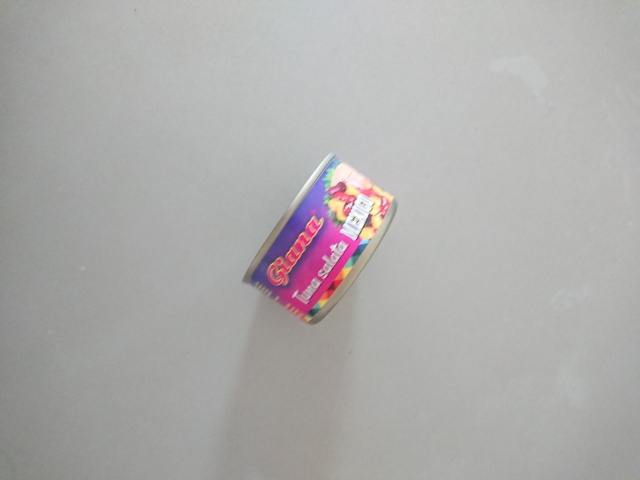Giana Tuna Salad Mexico 185g: (239, 147, 402, 328)
